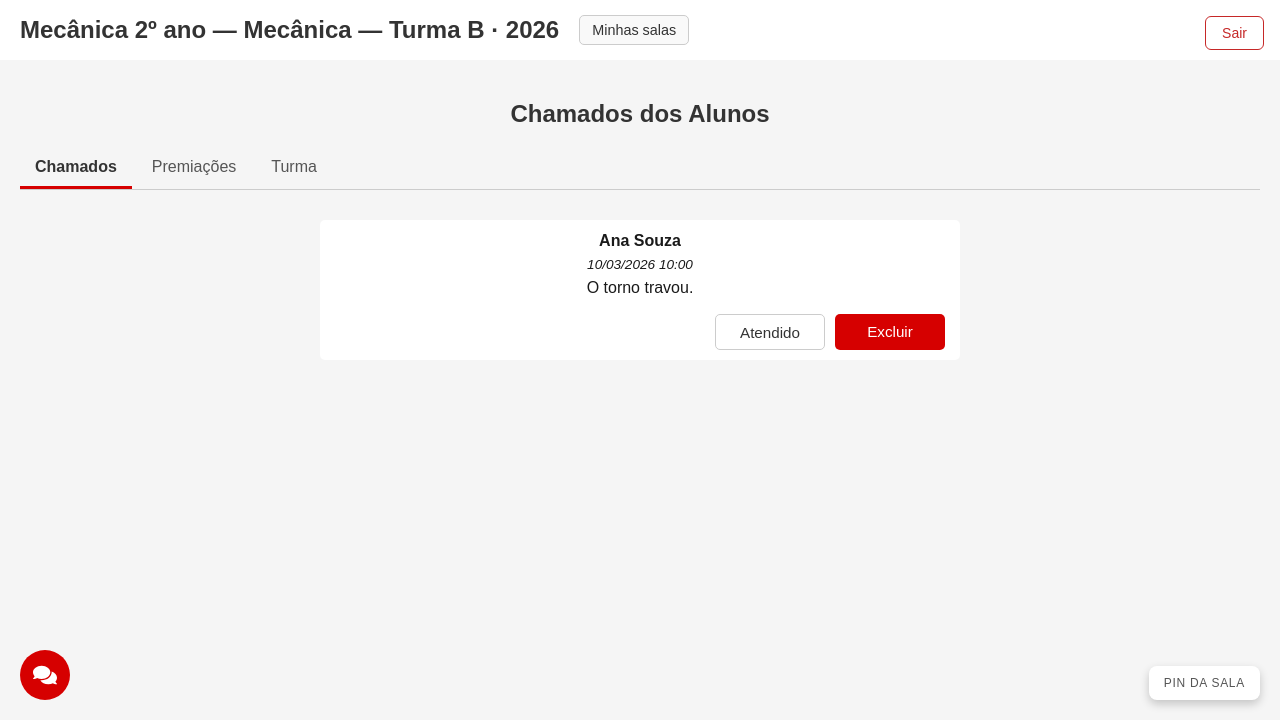
Sala — o painel da turma (AC-SALA-09) › remover um aluno apaga o vínculo e gera um PIN novo no mesmo gesto
This screenshot has width=1280, height=720.
Click the tab "Turma" at (294, 168), box [256,148,332,189]
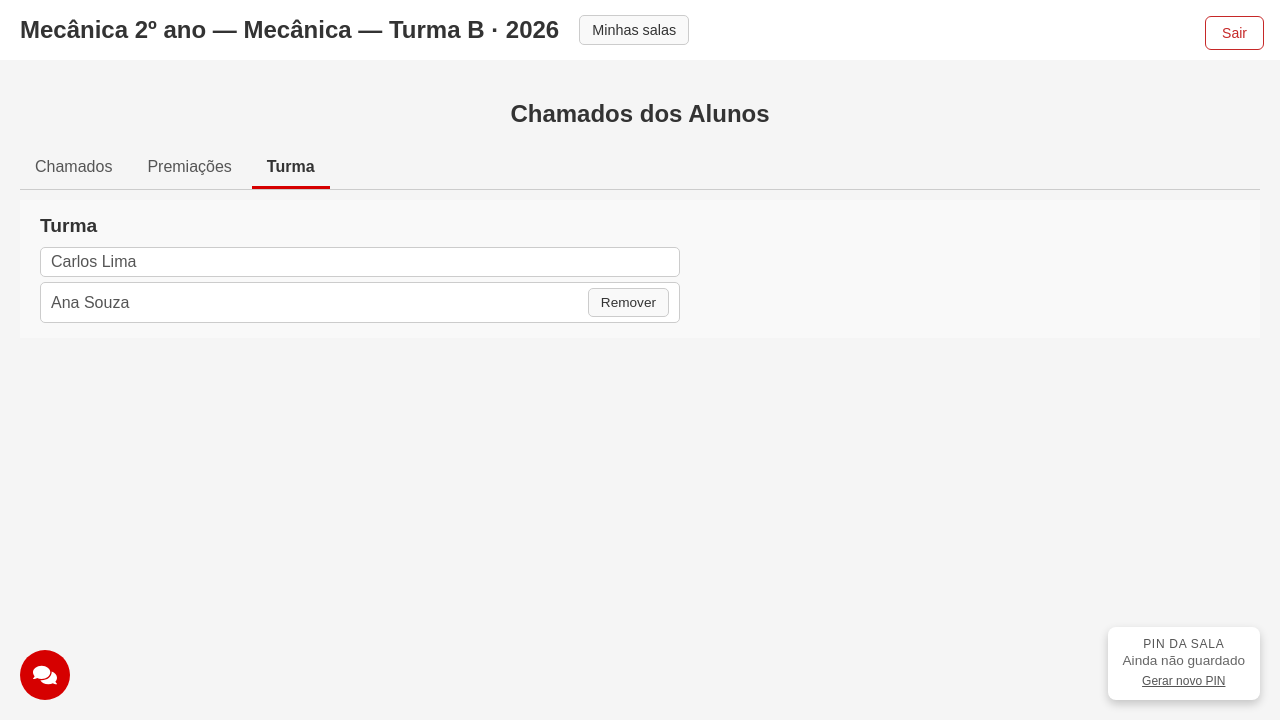
Click the button with aria-label "remover ana souza" at (628, 302), box [588,288,669,317]
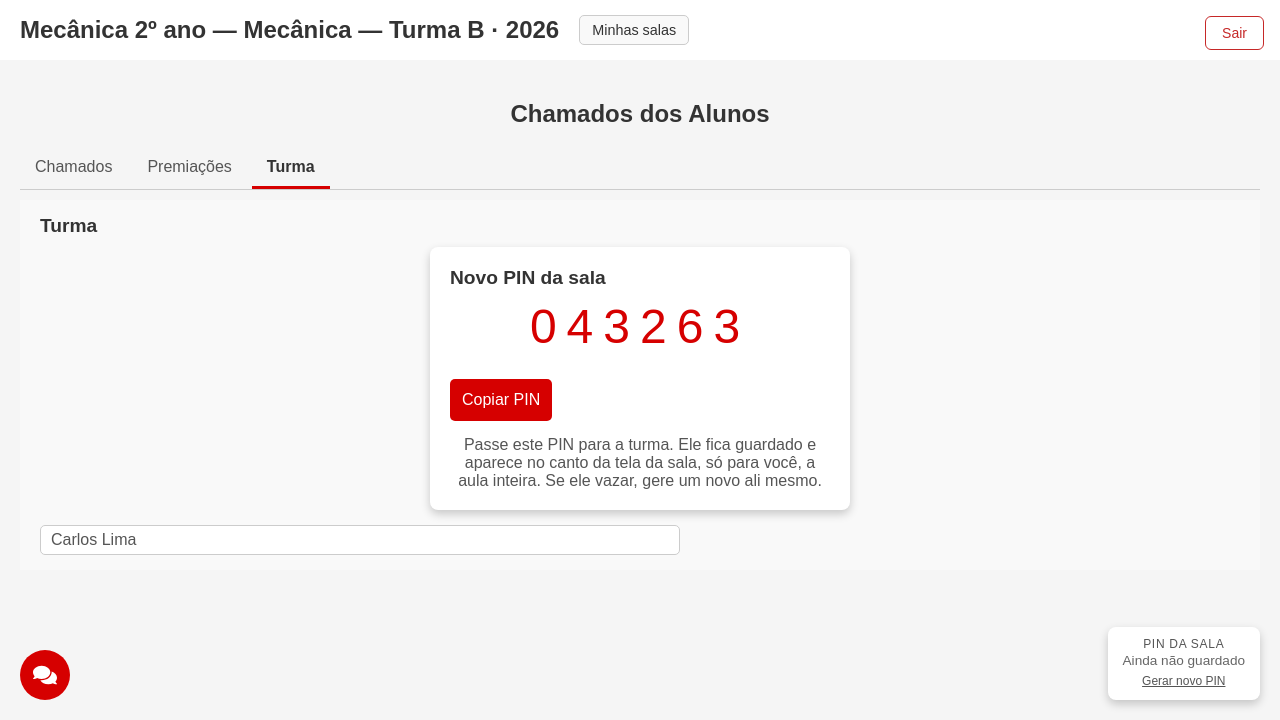
Expected: the text with test id "pin-em-destaque" reads "043263", [530,300,750,353]
